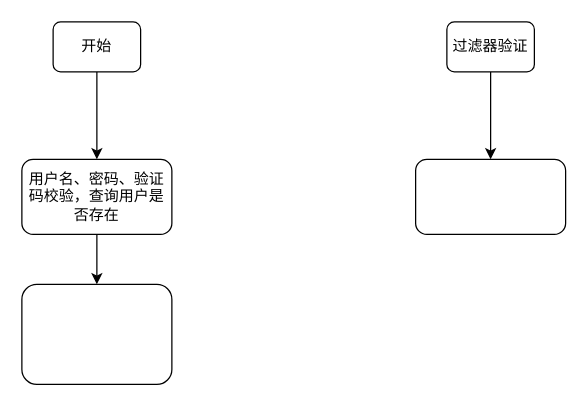
Some shapes in this 588 by 406 pixel diagram are drawn without their labels. The centre of each missing label's shape, as x and y in pixels:
"把当前用户组装成登录用户（包含了角色部门权限等信息）当做session的一个属性缓存起来" belongs at (96,333).
"过滤器获取从sessionManager通过request.getssionId获取当前用户" belongs at (490,196).
